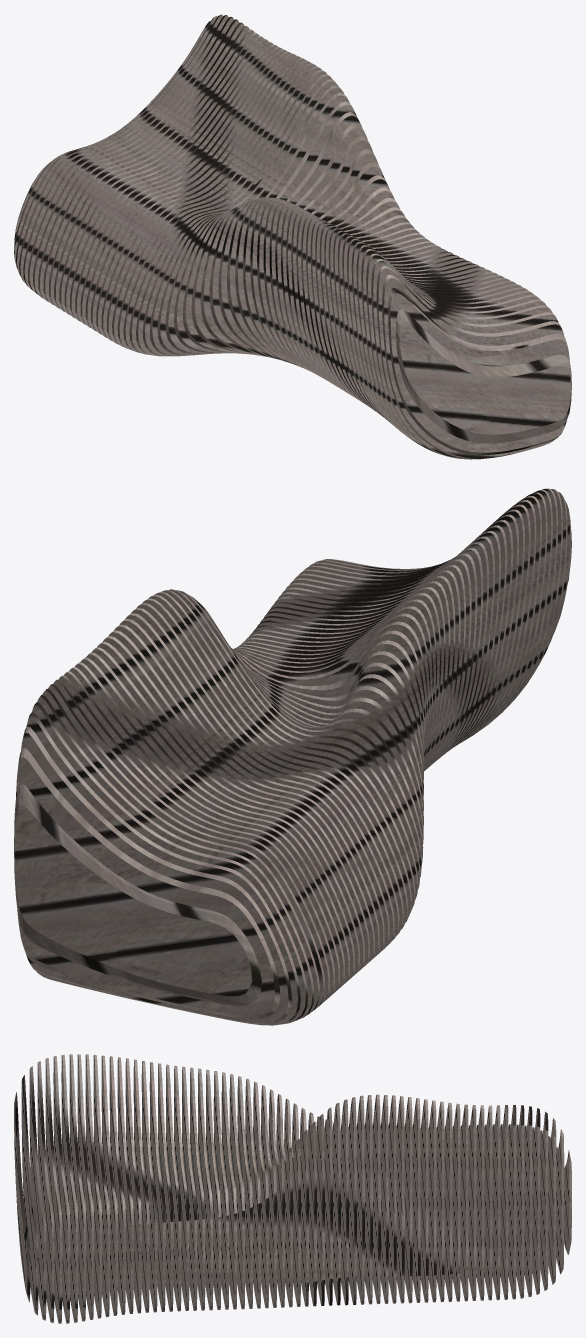
The model's file is Furnturee.glb.
3 views of the same model, one above another, from view 1: azimuth 30°, elevation 25°; view 2: azimuth 150°, elevation 25°; view 3: azimuth 270°, elevation 25° (orthographic). The views are drawn at different scales.
Parts seen in each view (by area): view 1: bEACH; view 2: bEACH; view 3: bEACH.
Part boxes in pixels (x1=…): bEACH: x1=14, y1=14, x2=571, y2=459; bEACH: x1=14, y1=488, x2=571, y2=1025; bEACH: x1=14, y1=1054, x2=571, y2=1323.
Bounding box in the file's own units: 3.13 × 2.8 × 6.62.
Materials: 1 (1 with a texture image).
